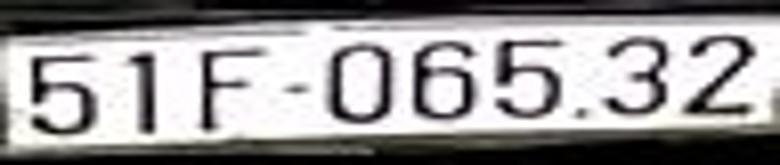-: (284, 77, 307, 96)
.: (572, 107, 588, 119)
0: (324, 45, 394, 123)
1: (129, 51, 160, 136)
2: (689, 33, 750, 114)
3: (607, 37, 666, 115)
5: (494, 39, 562, 119), (30, 56, 96, 137)
6: (412, 39, 474, 122)
F: (198, 48, 260, 129)
